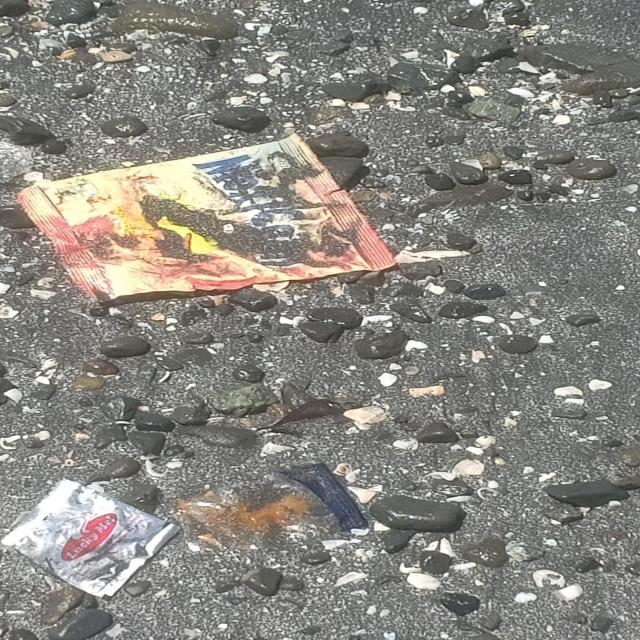plastic_waste: (12, 135, 395, 305), (1, 475, 177, 594)
